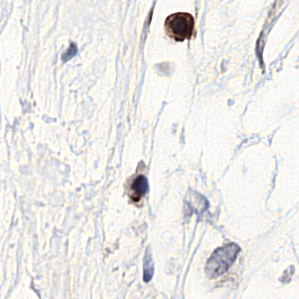Lymphocyte: (162, 8, 198, 44)
